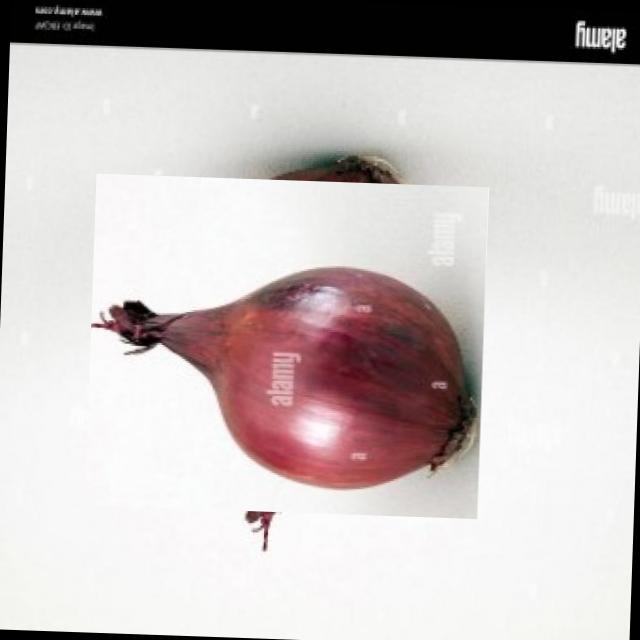Onion: (99, 158, 474, 533)
